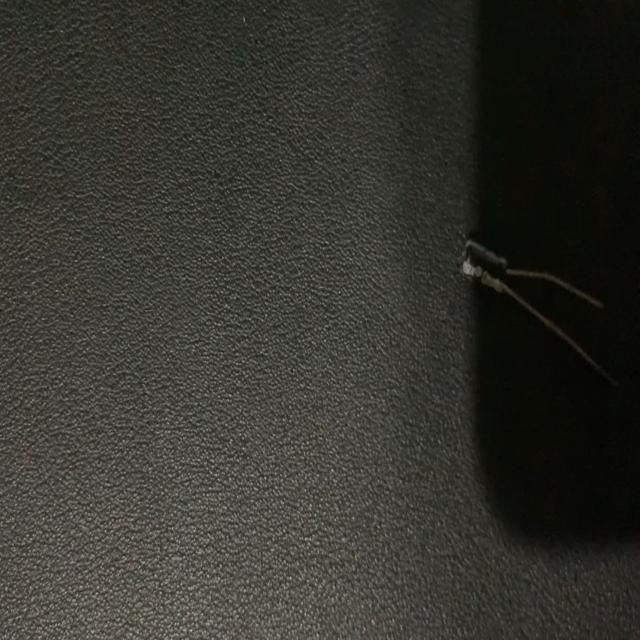capacitor: (460, 235, 616, 388)
